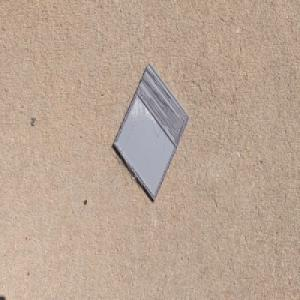PlasticPart: (113, 61, 191, 202)
